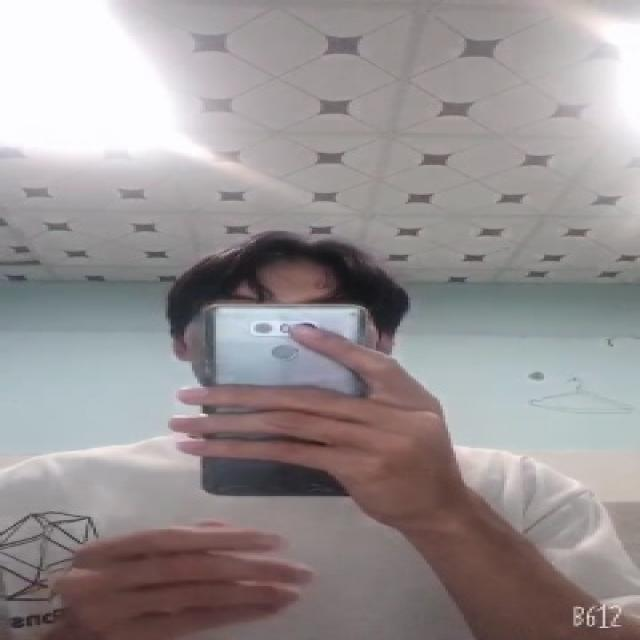Phone: (197, 302, 375, 500)
